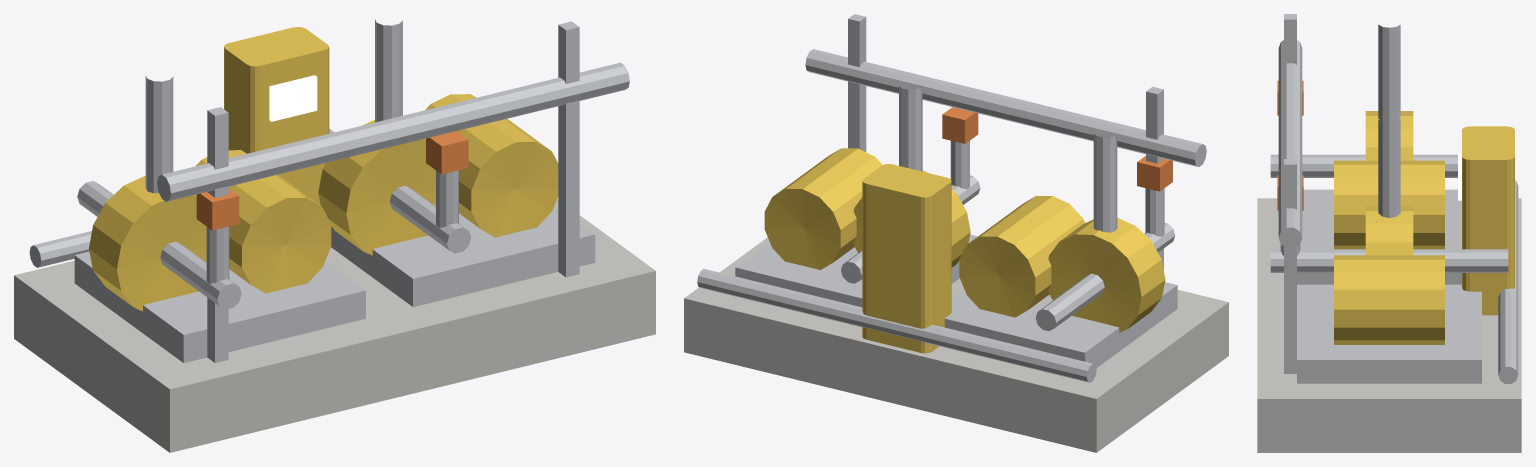
The model's file is underground-mine-and-shaft-works-pump-station-62bda8fd.glb.
3 renders of one model, left to right at view 1: azimuth 30°, elevation 25°; view 2: azimuth 150°, elevation 25°; view 3: azimuth 270°, elevation 25°, orthographic. The views are drawn at different scales.
Parts seen in each view (by area): view 1: pump-station; view 2: pump-station; view 3: pump-station.
Part boxes in pixels (x1=…): pump-station: x1=14, y1=19, x2=655, y2=452; pump-station: x1=684, y1=14, x2=1228, y2=452; pump-station: x1=1257, y1=14, x2=1521, y2=452.
Bounding box in the file's own units: 3.6 × 2.2 × 2.
